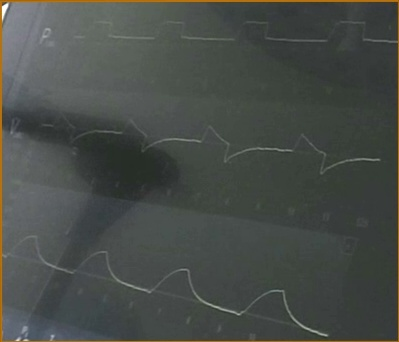Normal Flow: (42, 106, 376, 183)
Normal Volume: (3, 224, 325, 335)
